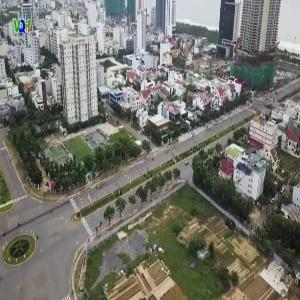drone: (216, 148, 268, 200)
